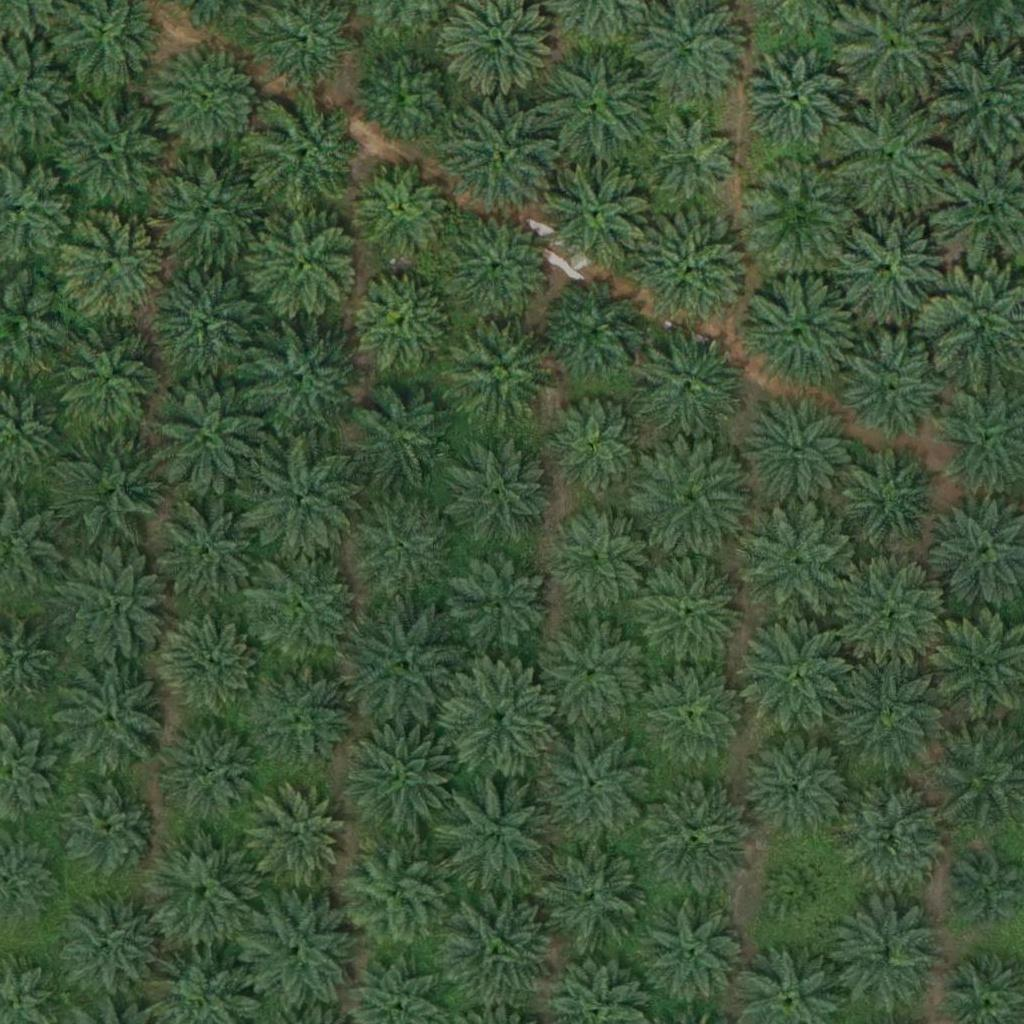Kelapa_Sawit: (152, 43, 265, 157), (250, 96, 363, 210), (247, 207, 360, 321), (836, 778, 949, 892), (742, 619, 855, 733), (348, 379, 461, 493), (337, 835, 450, 949), (442, 893, 555, 1007), (148, 156, 261, 269), (540, 48, 653, 161), (541, 153, 654, 266), (635, 213, 748, 326), (745, 272, 858, 385), (840, 559, 953, 672), (834, 654, 947, 767), (741, 394, 854, 507), (745, 510, 858, 623), (632, 329, 745, 442), (637, 443, 750, 556), (444, 662, 557, 775), (441, 774, 554, 887), (345, 492, 458, 605), (350, 611, 463, 724), (343, 723, 456, 836), (245, 323, 358, 436), (247, 445, 360, 558), (52, 547, 165, 660), (52, 663, 165, 776), (50, 775, 163, 888), (51, 888, 164, 1001), (830, 902, 943, 1015), (442, 314, 554, 428), (638, 557, 750, 671), (441, 438, 553, 552), (57, 95, 169, 208), (58, 210, 170, 323), (155, 263, 267, 376), (442, 102, 554, 215), (440, 212, 552, 325), (744, 158, 856, 271), (838, 100, 950, 213), (836, 206, 948, 319), (840, 330, 952, 443), (640, 783, 752, 896), (539, 620, 651, 733), (543, 730, 655, 843), (248, 551, 360, 664), (246, 664, 358, 777), (153, 382, 265, 495), (150, 493, 262, 606), (53, 326, 165, 439), (56, 441, 168, 554), (143, 834, 255, 947), (245, 894, 357, 1007), (537, 839, 649, 952), (359, 45, 459, 146), (543, 280, 643, 381), (643, 113, 743, 214), (743, 46, 843, 147), (845, 447, 945, 548), (249, 783, 349, 884), (157, 615, 257, 716), (162, 721, 262, 822), (645, 904, 745, 1005), (357, 160, 457, 260), (353, 272, 453, 372), (750, 736, 850, 836), (643, 667, 743, 767), (544, 399, 644, 499), (549, 513, 649, 613), (452, 557, 552, 657), (771, 861, 833, 924)
